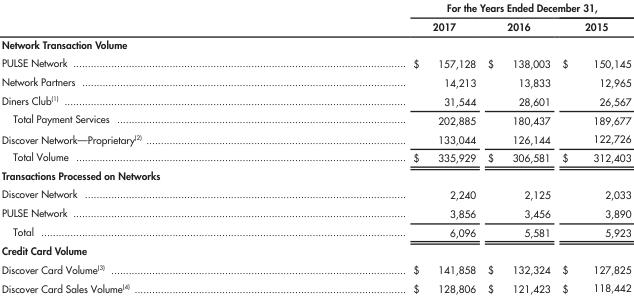table: (0, 0, 630, 294)
table column: (0, 0, 276, 294), (276, 0, 481, 294), (555, 0, 630, 294), (481, 0, 555, 294)
table column header: (0, 0, 630, 35)
table projected row header: (0, 240, 630, 259), (0, 166, 630, 184), (0, 35, 630, 52)
table row: (0, 109, 630, 129), (0, 16, 630, 35), (0, 52, 630, 71), (0, 71, 630, 90), (0, 90, 630, 109), (0, 147, 630, 166), (0, 184, 630, 203), (0, 203, 630, 222), (0, 240, 630, 259), (0, 259, 630, 278), (0, 129, 630, 147), (0, 166, 630, 184), (0, 222, 630, 240), (0, 35, 630, 52), (0, 0, 630, 16), (0, 278, 630, 294)
table spanning cell: (276, 0, 630, 16)
